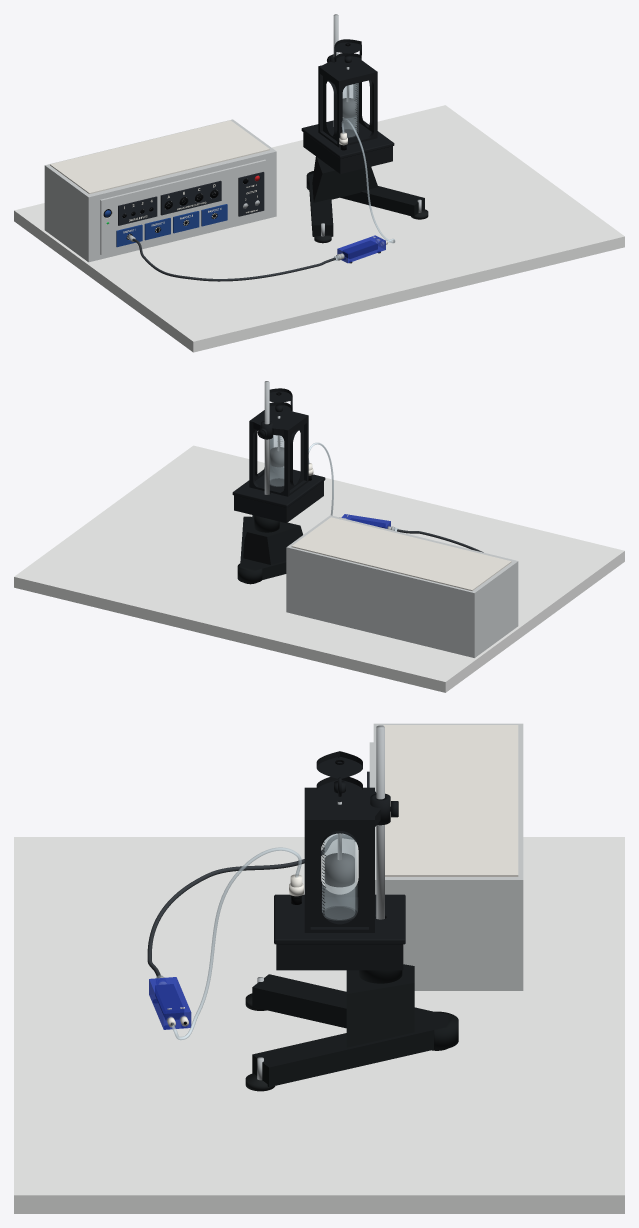
The model's file is EX5531_TD8572A_ratio_specific_heats_final.glb.
3 views of the same model, one above another, from view 1: azimuth 30°, elevation 25°; view 2: azimuth 150°, elevation 25°; view 3: azimuth 270°, elevation 25° (orthographic). The views are drawn at different scales.
Visible parts, largest first — view 1: Tabletop, UniversalInterface_TopCover, UniversalInterface_RoundedHousing, UniversalInterface_FrontPanel, Base_CastIron_LeftBeam, BaseToInstrument_CrossMount, LowerHousing, LowerHousing_TopLip, UniversalInterface_AnalogPanel, ProtectiveFrame_FrontPanel, UniversalInterface_OutputPanel, SensorShell_Blue (+7 smaller); view 2: Tabletop, UniversalInterface_RoundedHousing, UniversalInterface_TopCover, BaseToInstrument_CrossMount, LowerHousing, LowerHousing_TopLip, Base_CastIron_LeftBeam, ProtectiveFrame_BackPanel, Cylinder_Pyrex, ProtectiveFrame_TopSlab, SupportRod_45cm, ProtectiveFrame_BottomSlab (+2 smaller); view 3: Tabletop, UniversalInterface_TopCover, UniversalInterface_RoundedHousing, Base_CastIron_LeftBeam, BaseToInstrument_CrossMount, LowerHousing_TopLip, LowerHousing, Cylinder_Pyrex, ProtectiveFrame_RightPanel, ProtectiveFrame_TopSlab, SensorShell_Blue, SupportRod_45cm (+9 smaller).
Boxes of the visible parts, x1,y1,x2,y2 form: Tabletop: (14,105,624,352); UniversalInterface_TopCover: (50,120,269,194); UniversalInterface_RoundedHousing: (44,119,276,262); UniversalInterface_FrontPanel: (100,159,266,254); Base_CastIron_LeftBeam: (306,171,424,236); BaseToInstrument_CrossMount: (312,156,377,202); LowerHousing: (303,132,392,173); LowerHousing_TopLip: (301,118,394,158); UniversalInterface_AnalogPanel: (160,180,221,215); ProtectiveFrame_FrontPanel: (337,71,377,147); UniversalInterface_OutputPanel: (238,172,264,216); SensorShell_Blue: (337,235,385,263); Tabletop: (14,445,624,692); UniversalInterface_RoundedHousing: (286,515,518,657); UniversalInterface_TopCover: (291,517,511,590); BaseToInstrument_CrossMount: (243,515,302,564); LowerHousing: (234,481,323,523); LowerHousing_TopLip: (232,467,325,507); Base_CastIron_LeftBeam: (237,516,286,583); ProtectiveFrame_BackPanel: (249,420,289,496); Cylinder_Pyrex: (270,435,284,486); ProtectiveFrame_TopSlab: (249,410,308,436); SupportRod_45cm: (264,381,269,494); ProtectiveFrame_BottomSlab: (249,472,308,496); Tabletop: (14,837,624,1213); UniversalInterface_TopCover: (384,725,518,876); UniversalInterface_RoundedHousing: (373,723,523,990); Base_CastIron_LeftBeam: (252,974,458,1087); BaseToInstrument_CrossMount: (346,964,414,1047); LowerHousing_TopLip: (274,894,405,944); LowerHousing: (276,918,403,970); Cylinder_Pyrex: (322,833,357,920); ProtectiveFrame_RightPanel: (310,830,368,926); ProtectiveFrame_TopSlab: (304,787,374,830); SensorShell_Blue: (149,977,191,1029); SupportRod_45cm: (376,725,384,919).
Bounding box in the file's own units: 1.25 × 0.546 × 0.9.
